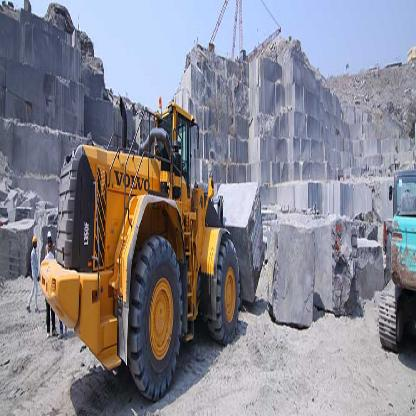bull_dozer/loader/grader: (47, 96, 248, 390)
